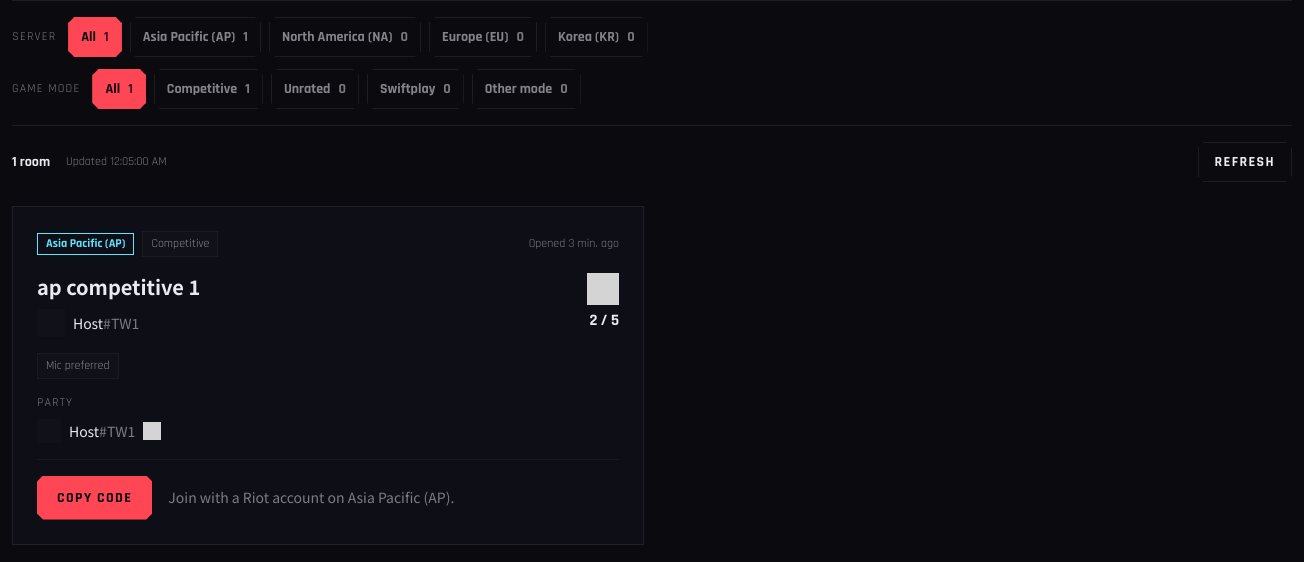
Test: copy code › explains a refusal: {"kind":"refused","reason":"closed"}
What coordinates should you click on to do the following:
click the button "Copy code"
I would click on:
 (95, 498)
Its box is [37, 476, 152, 520].
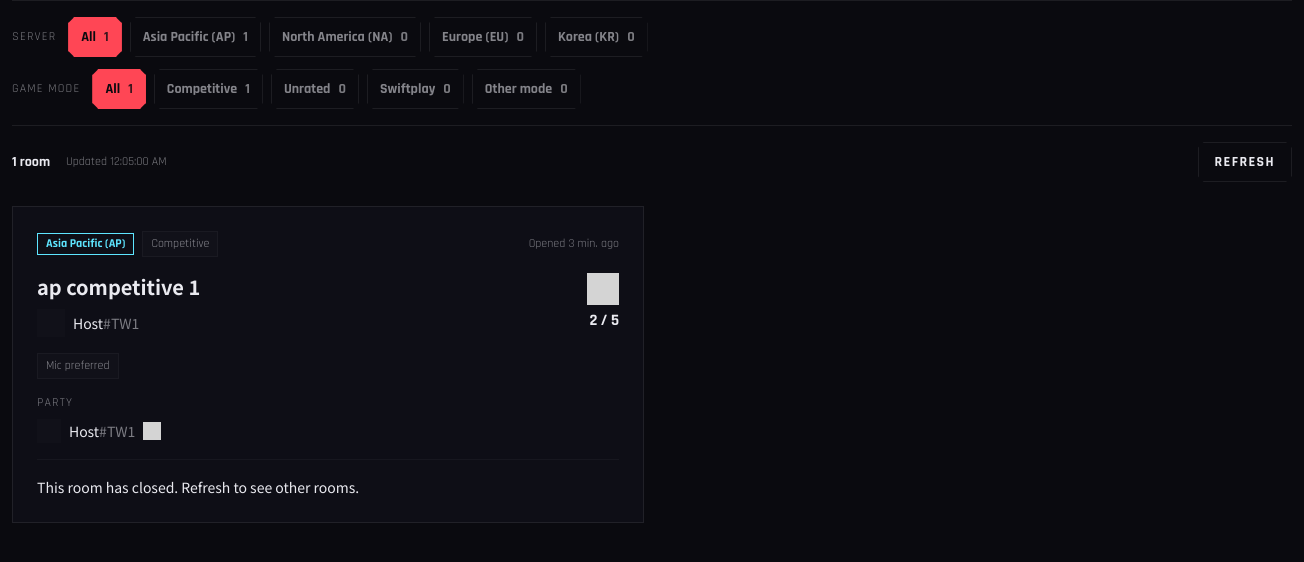
Check: the text "This room has closed. Refresh to see other rooms." is shown, box [37, 476, 359, 498]
